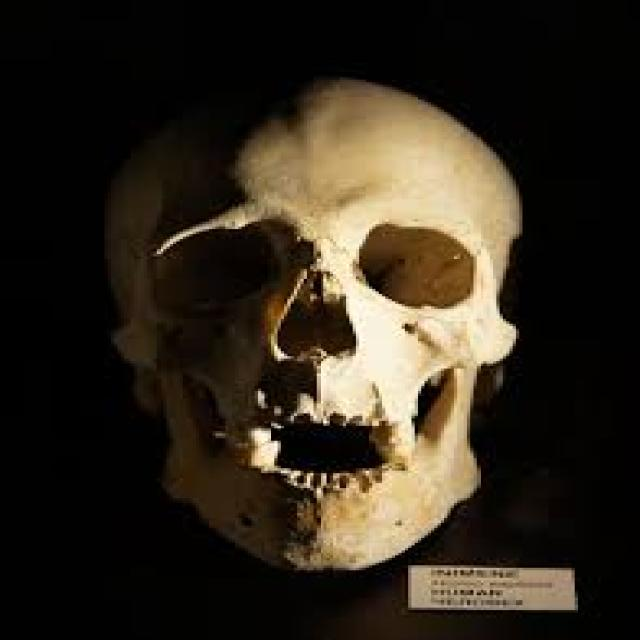skull: (89, 59, 546, 579)
